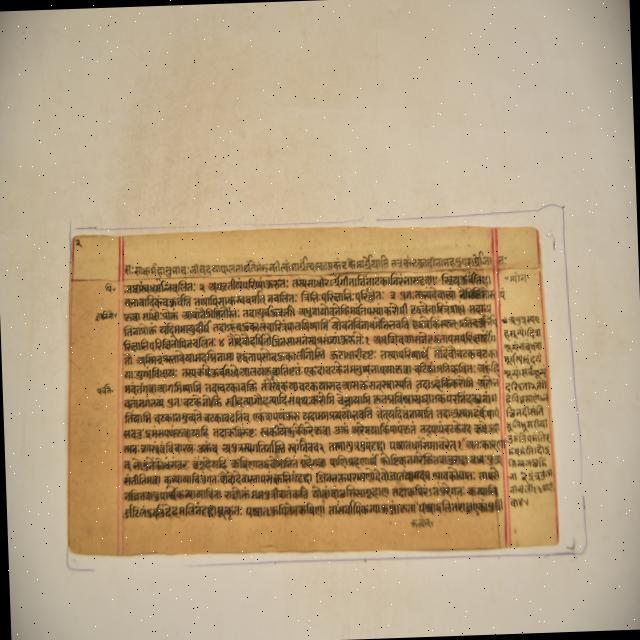text_paragraph: (67, 222, 559, 548)
